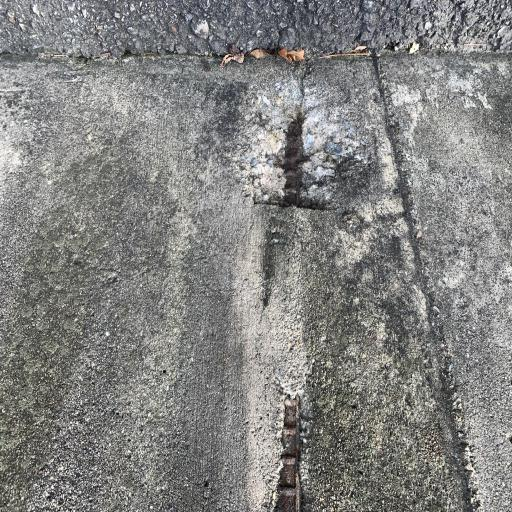exposed_rebar: (282, 110, 314, 206), (277, 384, 301, 512)
